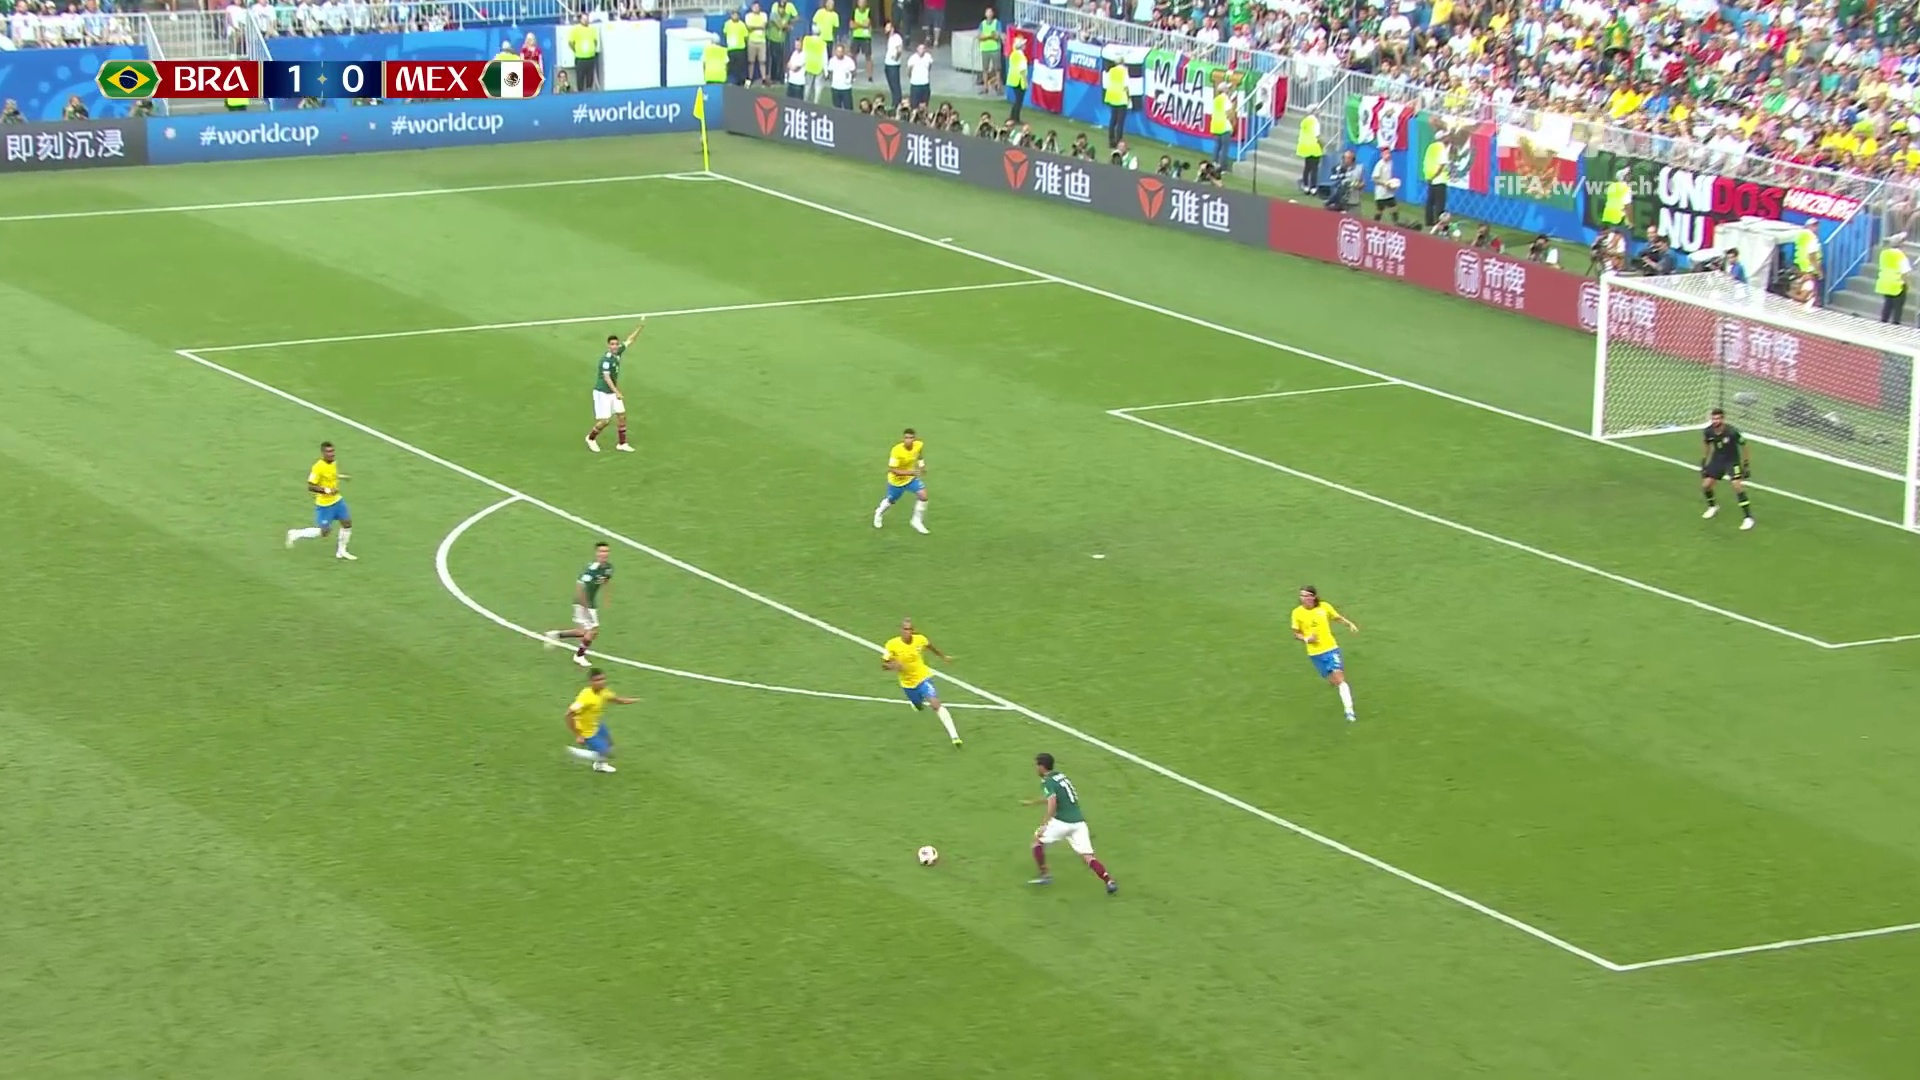ball: (919, 845, 938, 866)
person: (1019, 755, 1115, 897), (1284, 584, 1361, 722), (886, 620, 963, 740), (288, 436, 357, 565), (1690, 409, 1759, 526), (544, 547, 611, 663), (565, 672, 634, 774), (588, 313, 632, 449), (876, 430, 934, 530)
